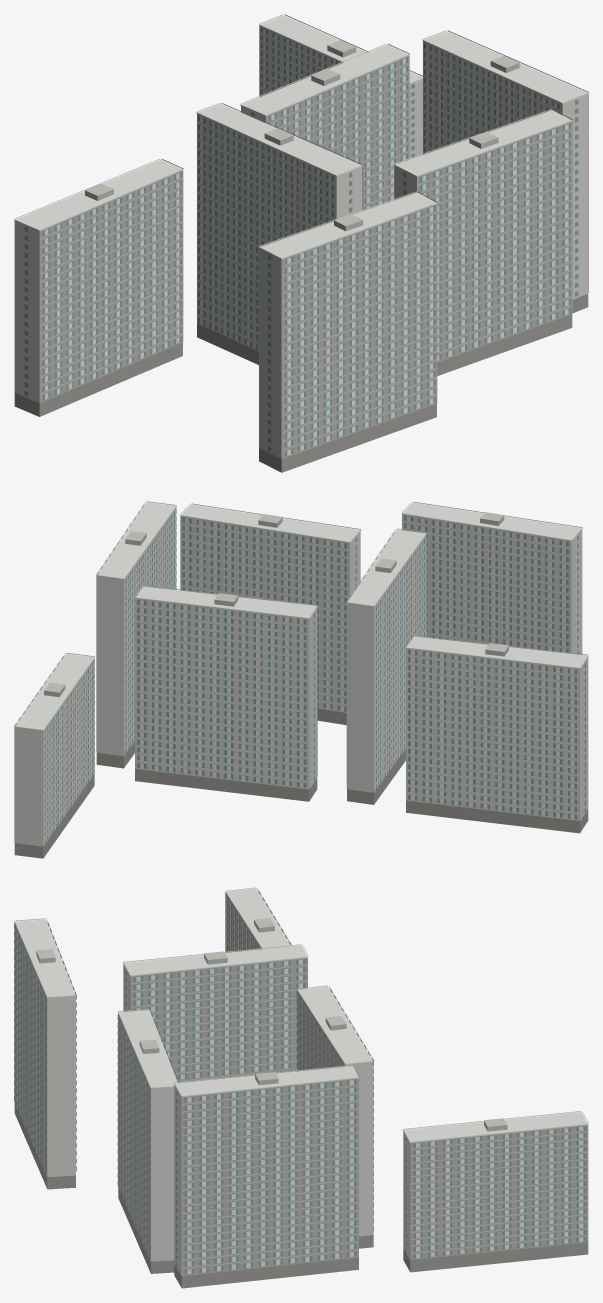
The model's file is representative-a15602007.glb.
3 views of the same model, one above another, from view 1: azimuth 30°, elevation 25°; view 2: azimuth 150°, elevation 25°; view 3: azimuth 270°, elevation 25° (orthographic). The views are drawn at different scales.
Parts seen in each view (by area): view 1: A15602007_accent001, A15602007_wall001, A15602007_trim001, A15602007_glass001, A15602007_base001, A15602007_roof001; view 2: A15602007_wall001, A15602007_trim001, A15602007_glass001, A15602007_base001, A15602007_roof001, A15602007_accent001; view 3: A15602007_accent001, A15602007_trim001, A15602007_glass001, A15602007_wall001, A15602007_base001, A15602007_roof001.
Boxes of the visible parts, <box> form: A15602007_accent001: <box>40,55,588,458</box>; A15602007_wall001: <box>14,15,588,458</box>; A15602007_trim001: <box>14,14,588,455</box>; A15602007_glass001: <box>24,27,578,456</box>; A15602007_base001: <box>14,293,588,472</box>; A15602007_roof001: <box>85,40,519,231</box>; A15602007_wall001: <box>14,502,588,846</box>; A15602007_trim001: <box>14,501,588,842</box>; A15602007_glass001: <box>15,504,585,843</box>; A15602007_base001: <box>14,708,588,858</box>; A15602007_roof001: <box>44,512,508,696</box>; A15602007_accent001: <box>14,576,346,842</box>; A15602007_accent001: <box>14,893,588,1276</box>; A15602007_trim001: <box>14,887,588,1274</box>; A15602007_glass001: <box>14,891,585,1274</box>; A15602007_wall001: <box>14,888,587,1275</box>; A15602007_base001: <box>14,1103,588,1288</box>; A15602007_roof001: <box>36,918,507,1131</box>.
Bounding box in the file's own units: 162 × 66.5 × 168.
